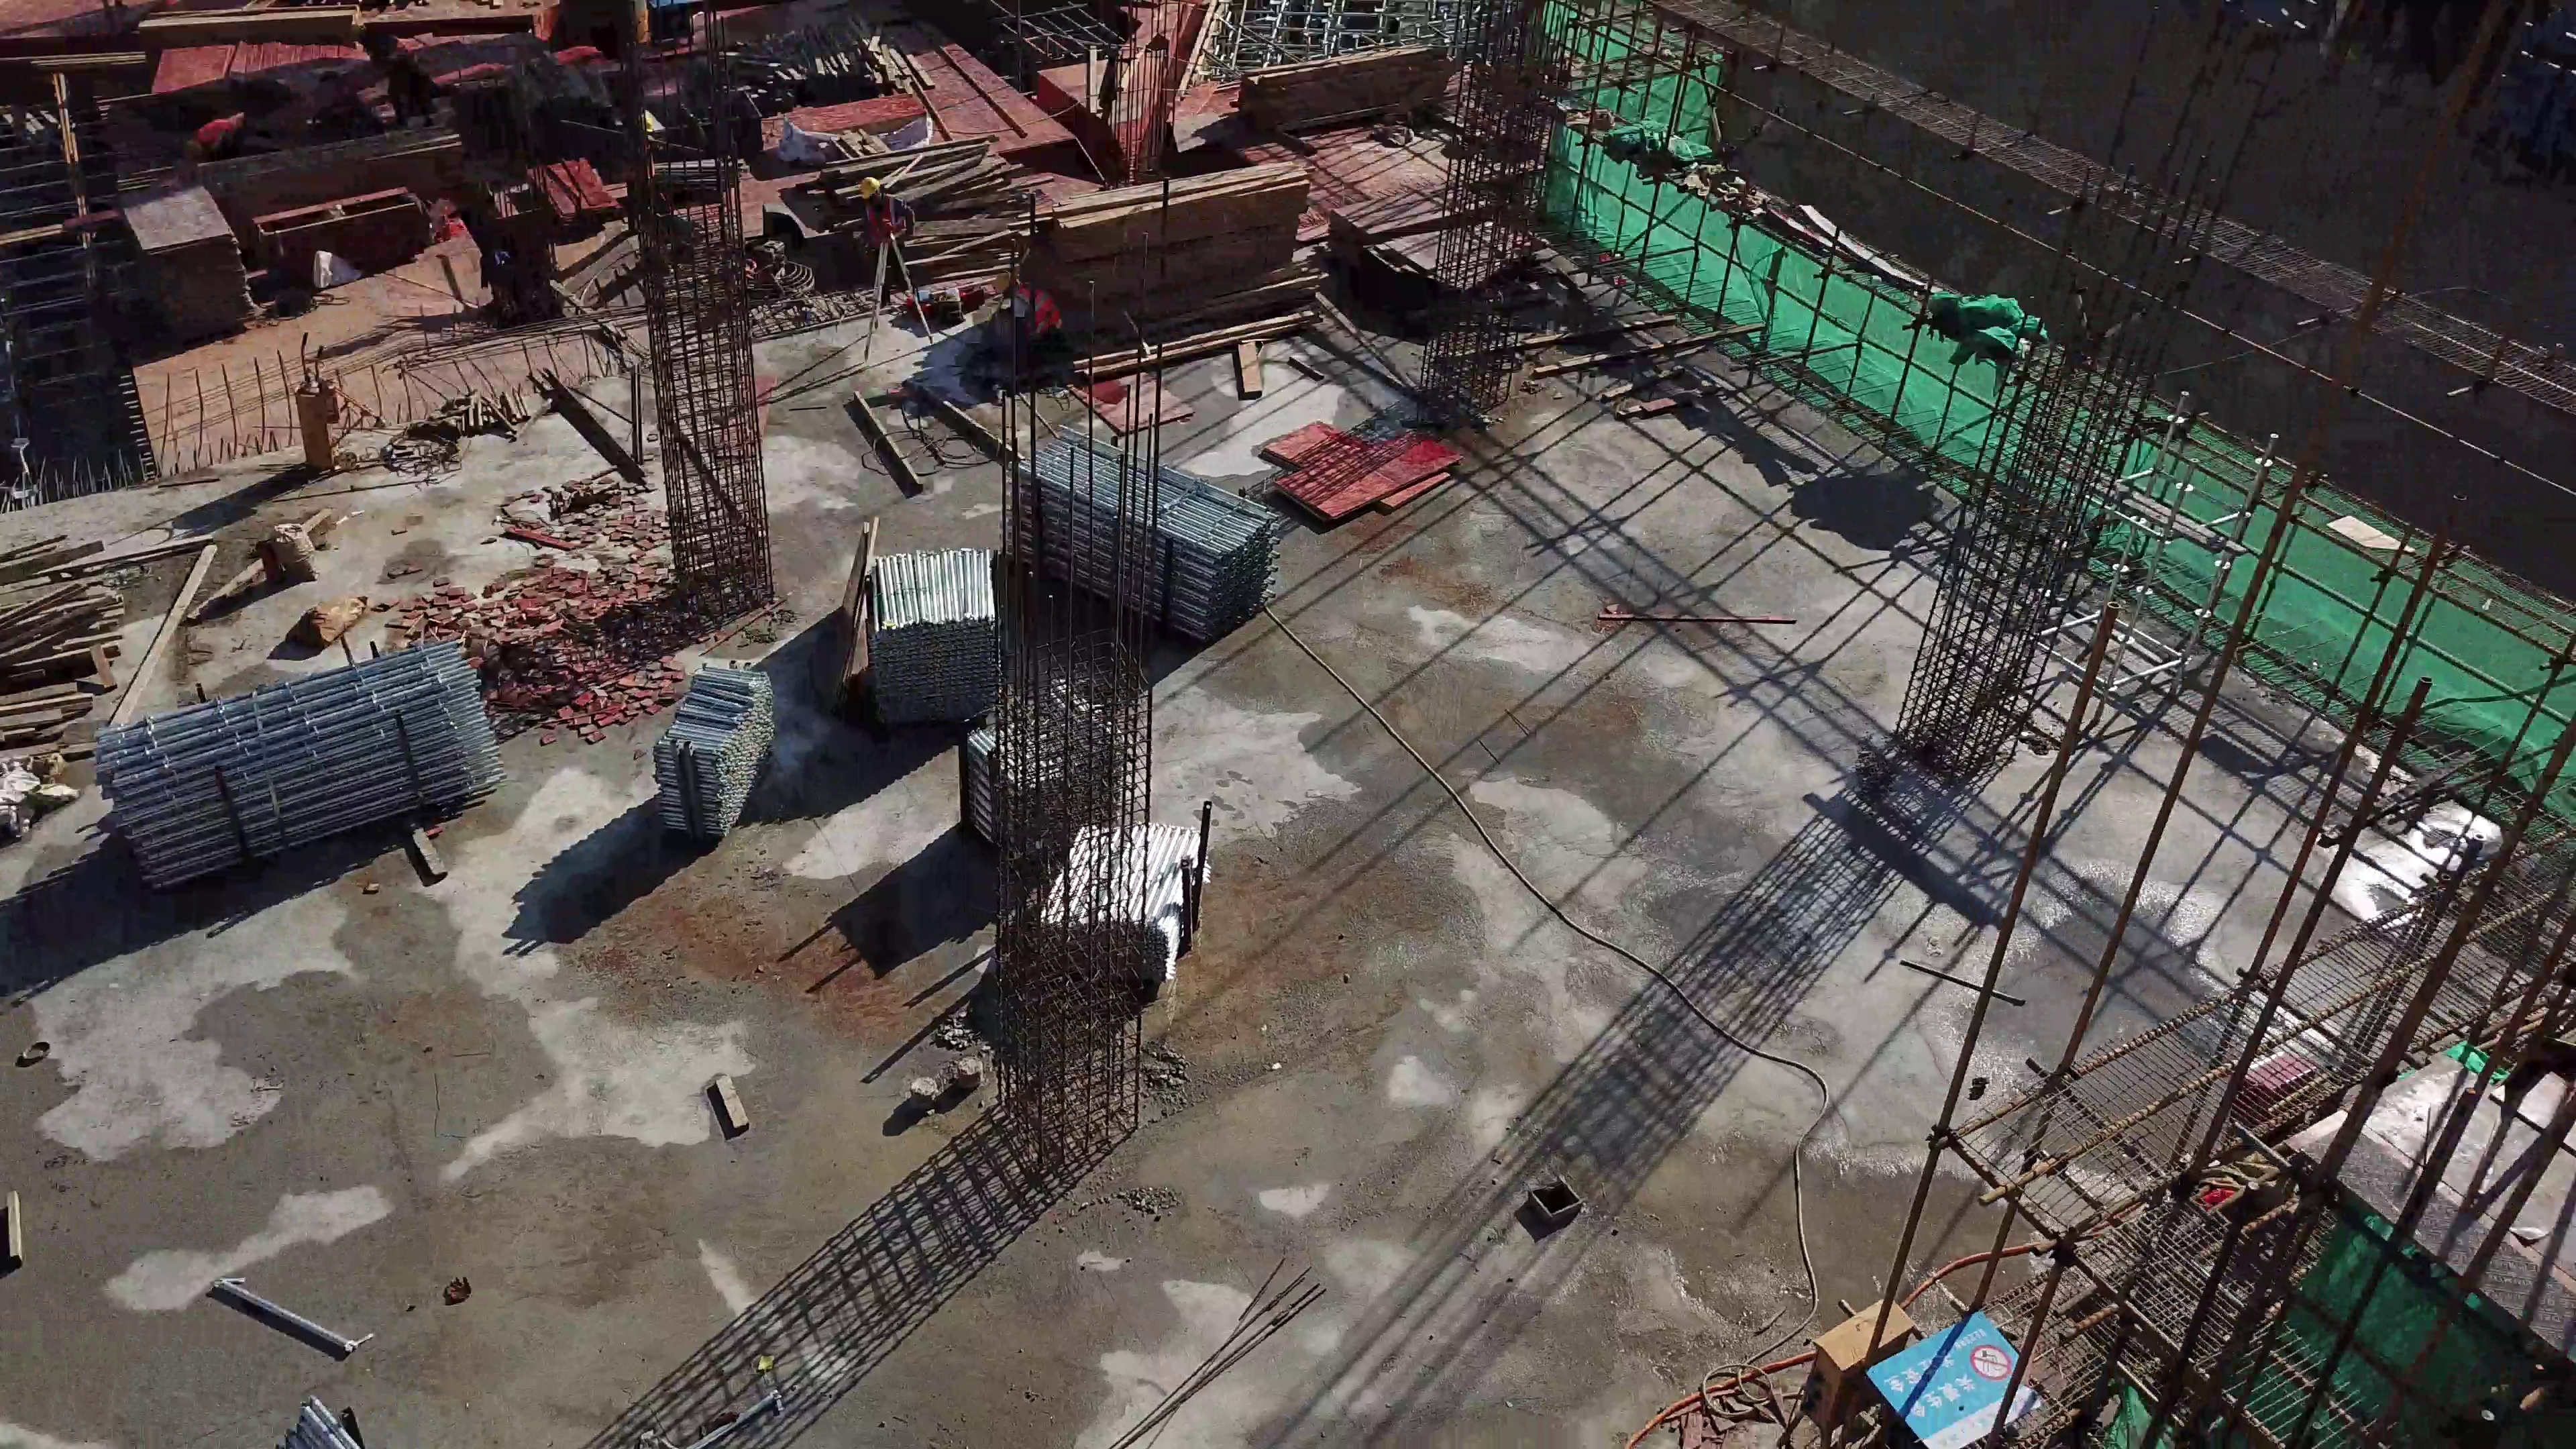board: (102, 186, 249, 332), (761, 99, 930, 141)
ebox: (1784, 1304, 1909, 1444)
helmet: (994, 270, 1016, 292), (862, 175, 880, 201), (187, 142, 203, 156)
hopper: (640, 92, 764, 158)
person: (993, 271, 1069, 358), (619, 117, 670, 233), (859, 172, 910, 275), (186, 118, 243, 158)
scaffold: (93, 628, 482, 894), (1011, 438, 1271, 635), (957, 687, 1133, 858), (1032, 824, 1205, 992), (863, 547, 1003, 718), (650, 665, 763, 838)
slogan: (1875, 1322, 2037, 1448)
vest: (1014, 284, 1059, 335), (867, 198, 900, 246), (200, 120, 235, 147)
wood: (1066, 184, 1307, 303), (1242, 45, 1437, 113), (220, 132, 472, 184), (145, 13, 360, 46)
